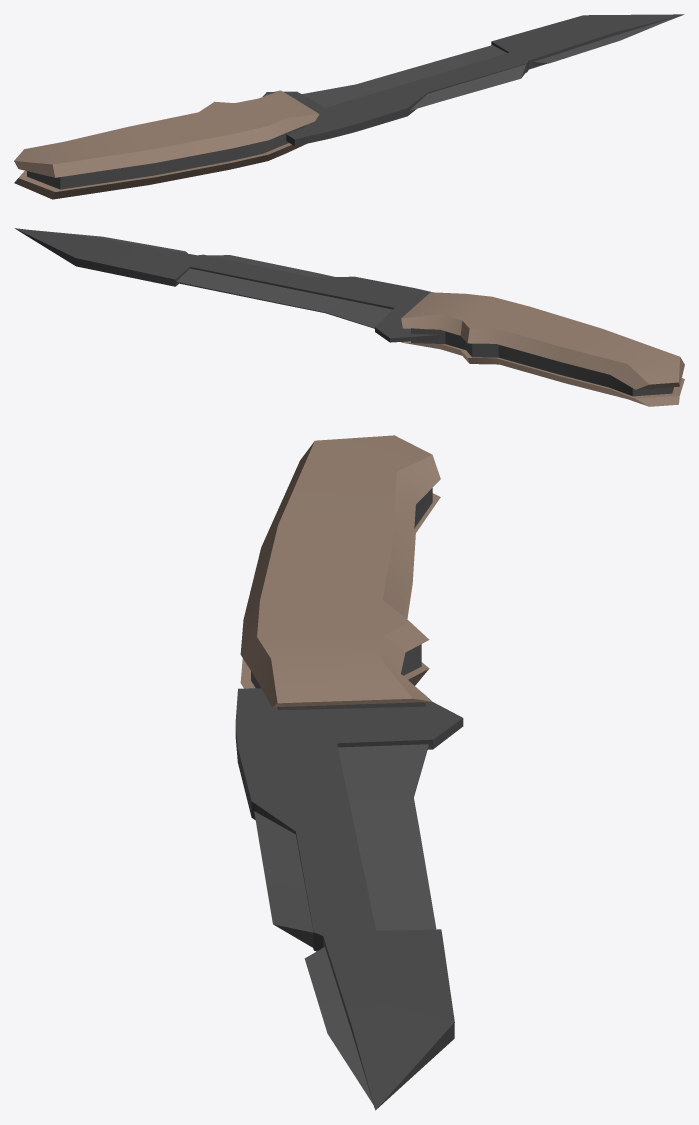
Rendered from combat_knife.gltf.
The picture shows the model from 3 angles, top to bottom: view 1: azimuth 30°, elevation 25°; view 2: azimuth 150°, elevation 25°; view 3: azimuth 270°, elevation 25°; orthographic projection. The views are drawn at different scales.
Visible parts, largest first — view 1: CombatKnife; view 2: CombatKnife; view 3: CombatKnife.
Boxes of the visible parts, box(x1,y1,x2,y2) form: CombatKnife: box(14, 14, 684, 199); CombatKnife: box(14, 228, 684, 406); CombatKnife: box(235, 435, 463, 1110).
Bounding box in the file's own units: 0.4968 × 0.025 × 0.0736.
